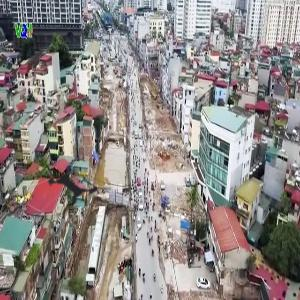drone: (22, 131, 130, 239)
